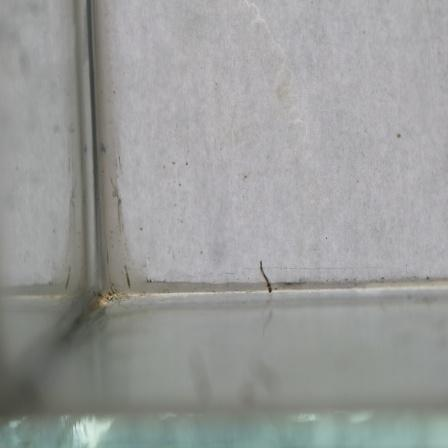Jentik-Nyamuk: (255, 255, 278, 298)
